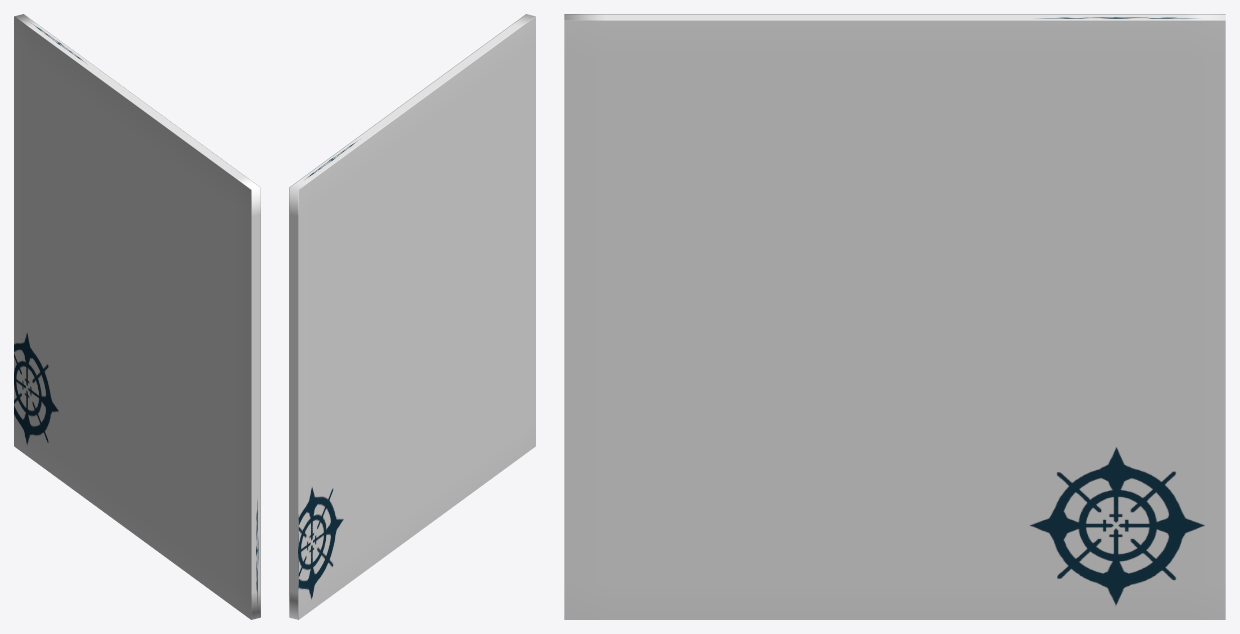
Rendered from loci-sticker.glb.
3 views of the same model, side by side, from view 1: azimuth 30°, elevation 25°; view 2: azimuth 150°, elevation 25°; view 3: azimuth 270°, elevation 25° (orthographic). The views are drawn at different scales.
Visible parts, largest first — view 1: Cube; view 2: Cube; view 3: Cube.
Boxes of the visible parts, box(x1,y1,x2,y2) form: Cube: box(14, 14, 260, 619); Cube: box(289, 14, 535, 619); Cube: box(564, 14, 1225, 619).
Size of the model in its own units: 0.0823 by 3.46 by 3.46.
Materials: 1 (1 with a texture image).
